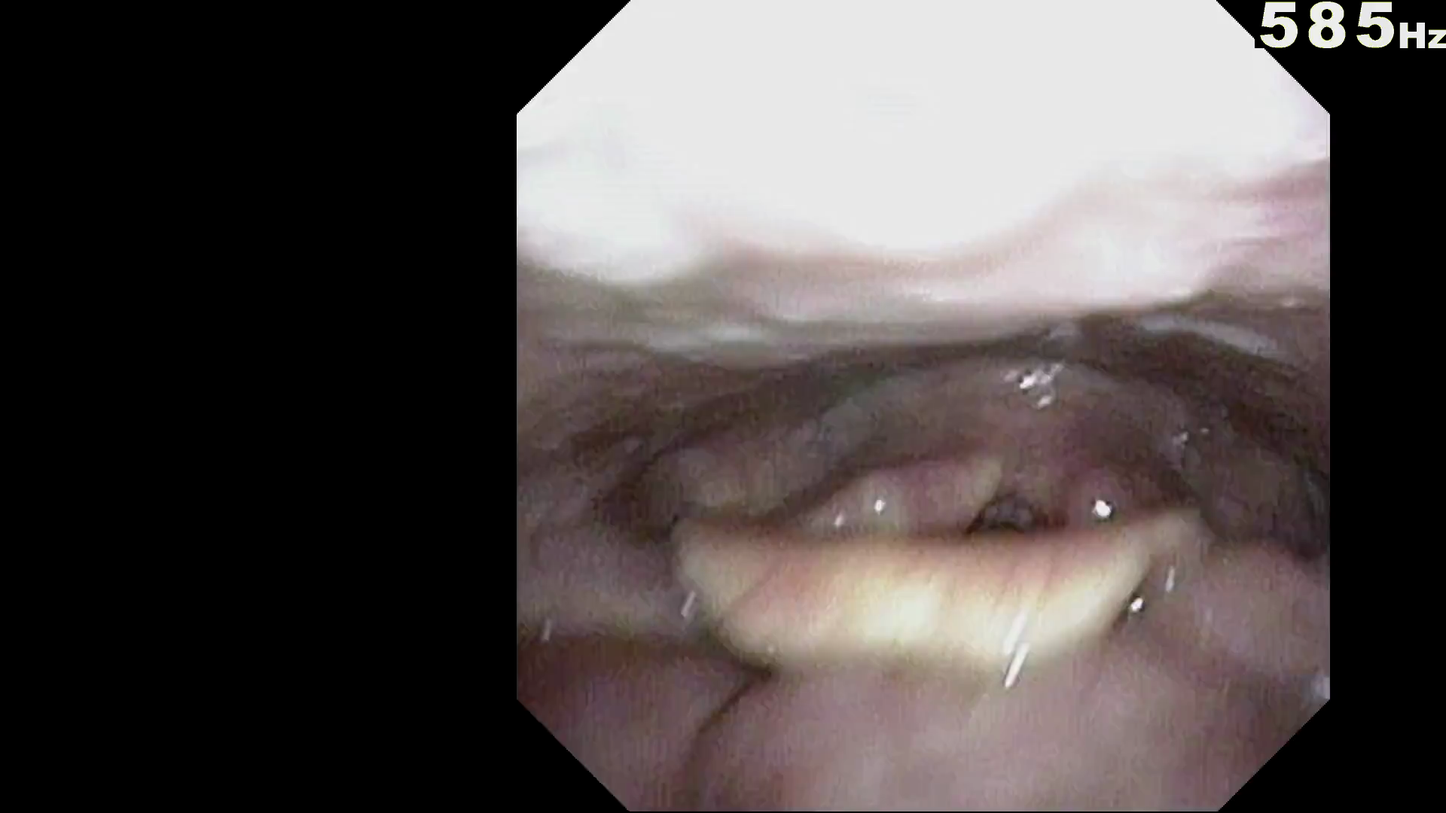epiglottis: (685, 568, 1227, 708)
trachea: (926, 533, 1054, 627)
